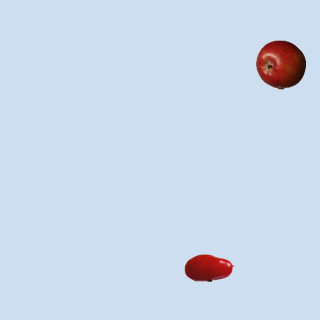Apple Braeburn: (255, 39, 305, 89)
Tomato 2: (183, 242, 233, 292)
